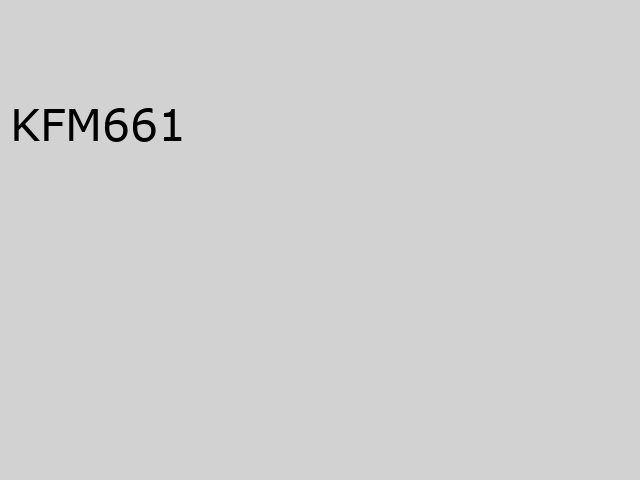OCR_AREA: (6, 104, 190, 146)
